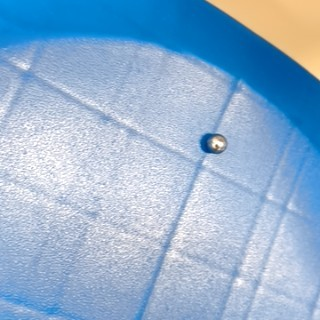ironball: (197, 125, 232, 163)
